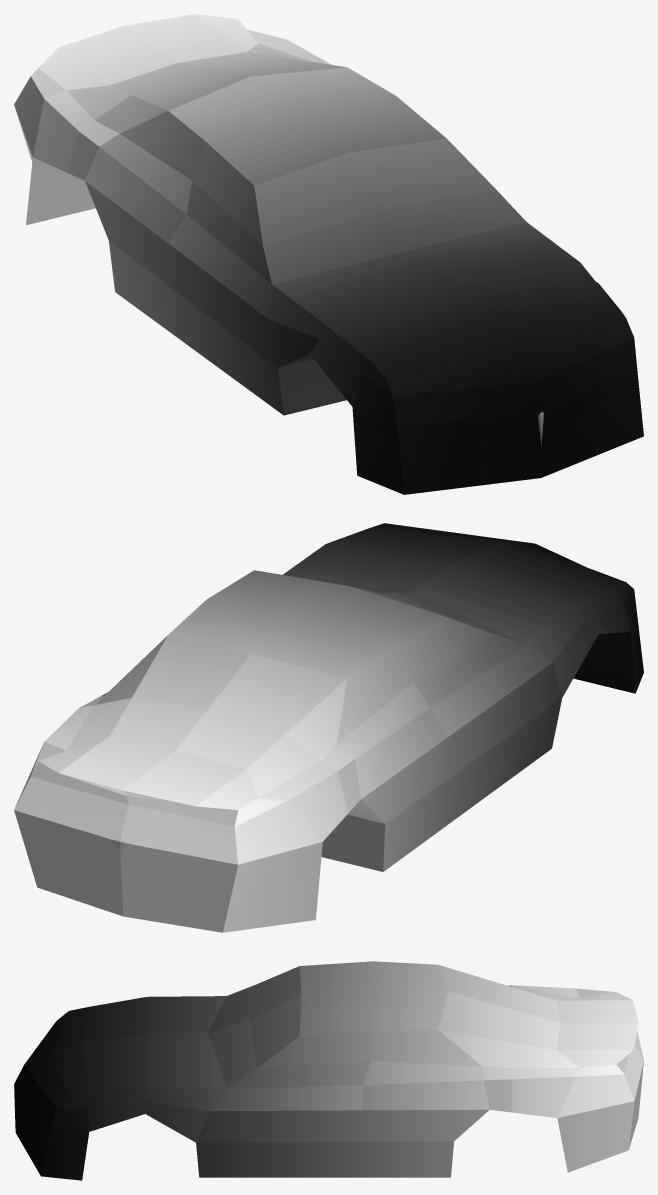
Rendered from Mustang2014_Low.fbx.
3 renders of one model, top to bottom at view 1: azimuth 30°, elevation 25°; view 2: azimuth 150°, elevation 25°; view 3: azimuth 270°, elevation 25°, orthographic. The views are drawn at different scales.
Parts seen in each view (by area): view 1: Box001; view 2: Box001; view 3: Box001.
Part boxes in pixels (left/top/right/bottom): Box001: left=14, top=14, right=643, bottom=494; Box001: left=14, top=523, right=643, bottom=932; Box001: left=14, top=961, right=643, bottom=1180.
Size of the model in its own units: 1.81 by 1.13 by 4.57.
Materials: 1 (1 with a texture image).
